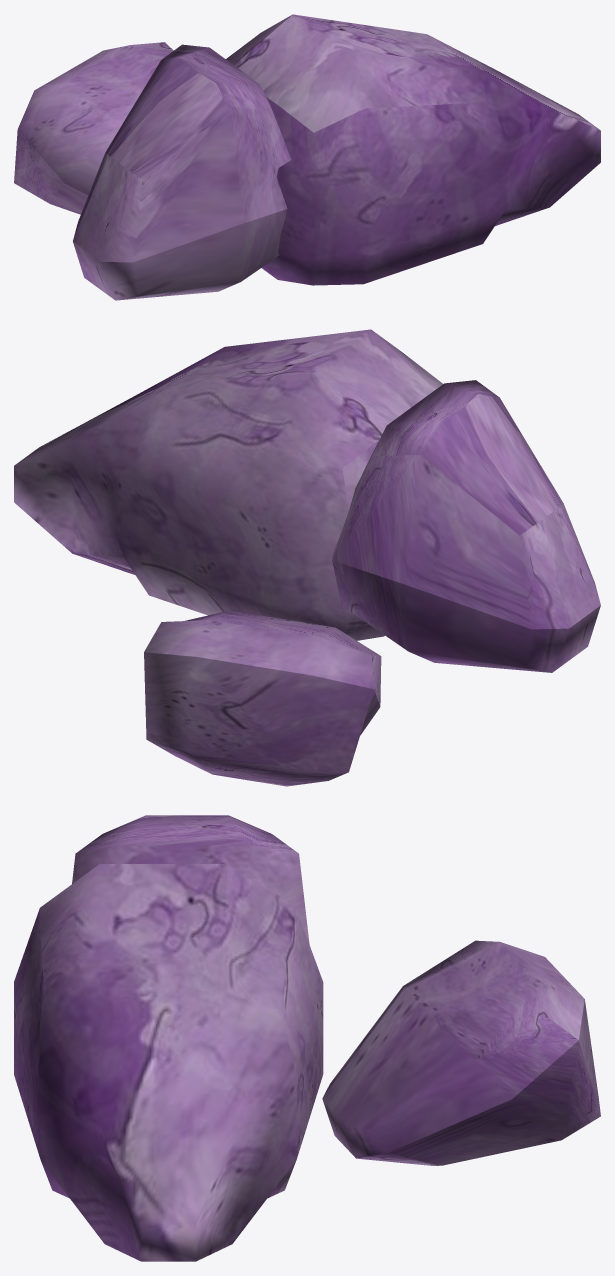
The model's file is entity60608n.gltf.
3 renders of one model, top to bottom at view 1: azimuth 30°, elevation 25°; view 2: azimuth 150°, elevation 25°; view 3: azimuth 270°, elevation 25°, orthographic. The views are drawn at different scales.
Parts seen in each view (by area): view 1: node_Rock_04; view 2: node_Rock_04; view 3: node_Rock_04.
Part boxes in pixels (box(x1,y1,x2,y2)): node_Rock_04: box(14, 14, 600, 300); node_Rock_04: box(14, 329, 600, 786); node_Rock_04: box(14, 815, 600, 1261).
Size of what is drawn, in the model's own units: 3.15 by 1.59 by 2.62.
